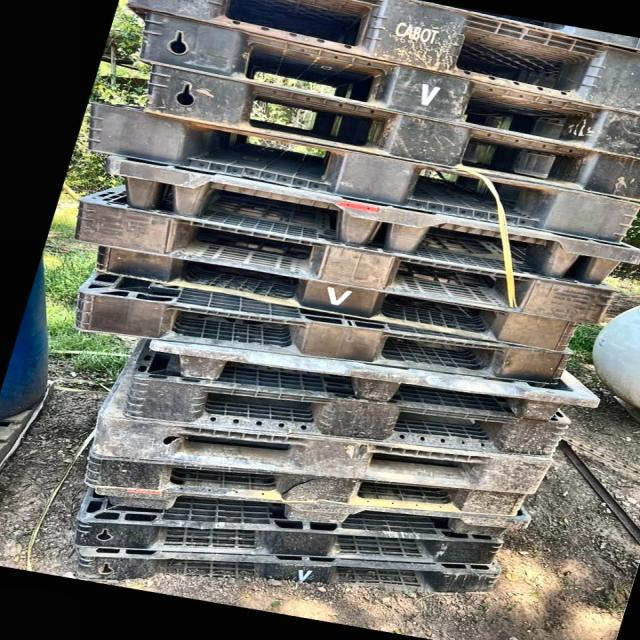non-igps: (82, 96, 640, 248), (132, 5, 640, 166), (68, 189, 624, 331), (100, 146, 640, 287), (139, 58, 640, 207), (69, 261, 584, 388), (122, 0, 640, 121), (89, 240, 589, 356), (83, 394, 562, 500), (116, 359, 578, 465), (142, 326, 605, 428), (64, 481, 510, 576), (77, 436, 532, 522), (86, 475, 538, 543), (66, 534, 508, 598)
